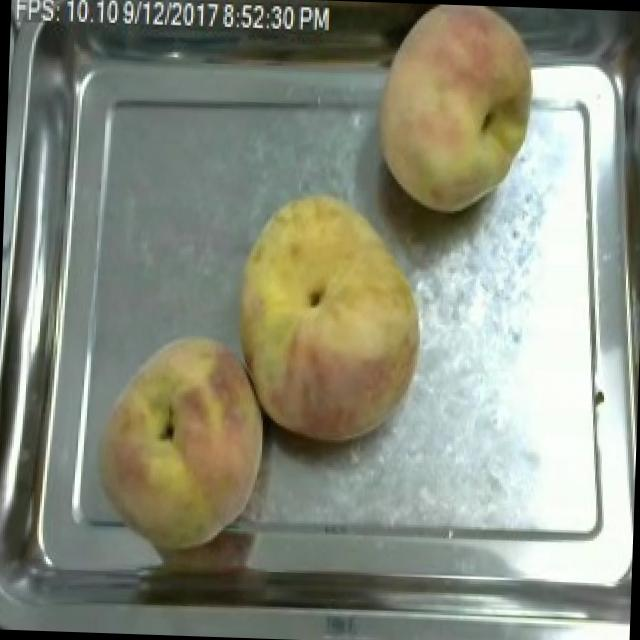Fruit: (225, 183, 432, 453), (80, 327, 276, 559), (362, 2, 549, 224)
